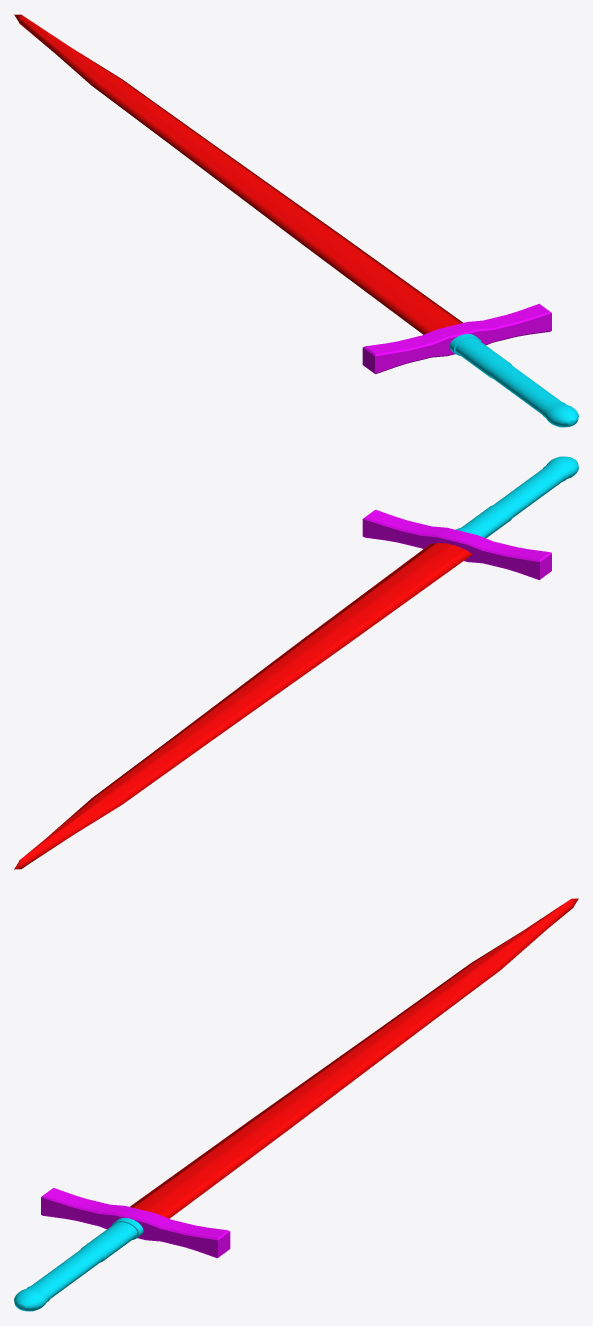
File: sword.fbx
The picture shows the model from 3 angles, top to bottom: view 1: azimuth 30°, elevation 25°; view 2: azimuth 150°, elevation 25°; view 3: azimuth 330°, elevation 25°; orthographic projection.
Visible parts, largest first — view 1: pCube1, pCube4, pSphere2; view 2: pCube1, pCube4, pSphere2; view 3: pCube1, pCube4, pSphere2.
Boxes of the visible parts, x1,y1,x2,y2 form: pCube1: (14, 14, 462, 334); pCube4: (362, 303, 551, 374); pSphere2: (449, 334, 578, 427); pCube1: (14, 543, 472, 869); pCube4: (362, 509, 551, 580); pSphere2: (456, 456, 578, 538); pCube1: (130, 898, 578, 1218); pCube4: (41, 1188, 230, 1258); pSphere2: (14, 1218, 143, 1311).
Bounding box in the file's own units: 1.33 × 0.146 × 7.29.
